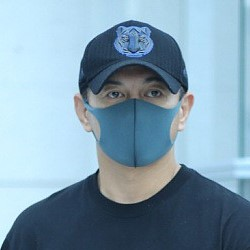mask: (77, 95, 188, 164)
